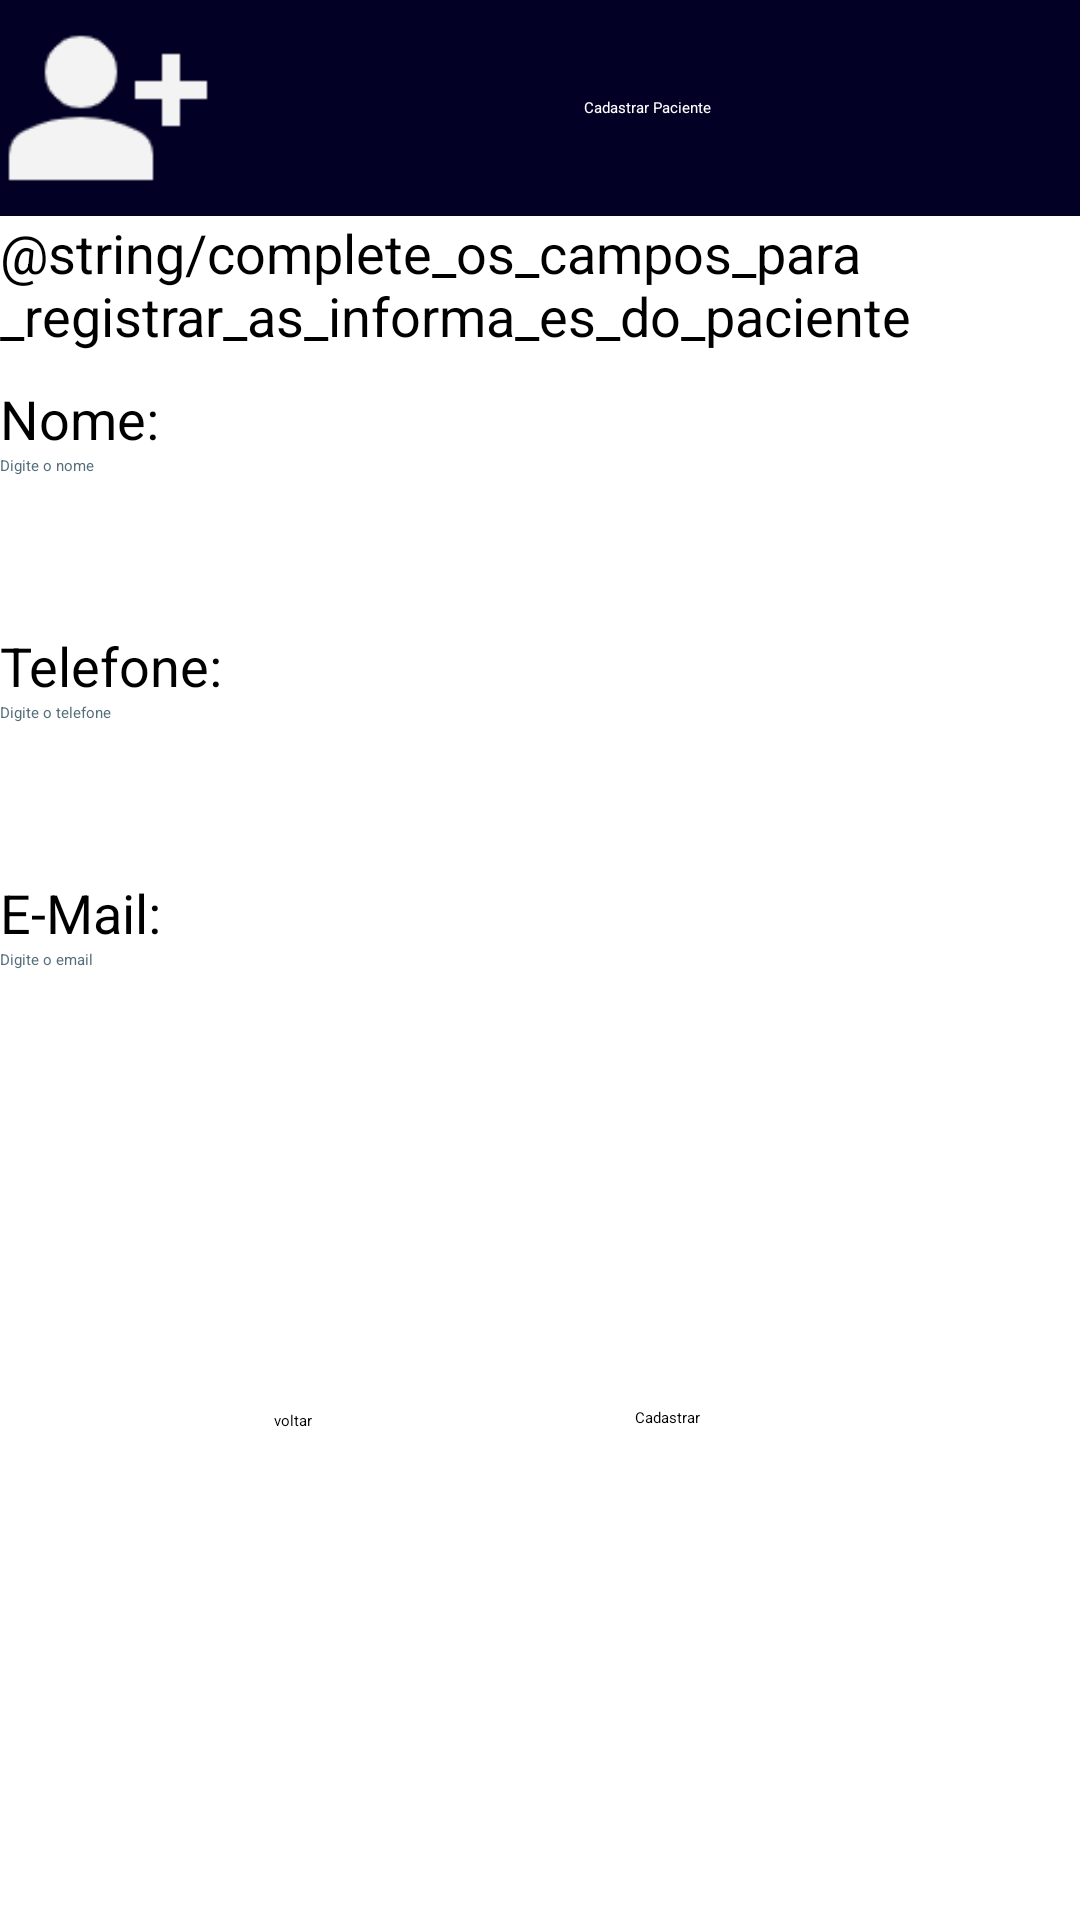

Screen size 1080px×1920px. Icon name, then its center in pixels as (x=x, y=y):
add user: (x=108, y=108)
